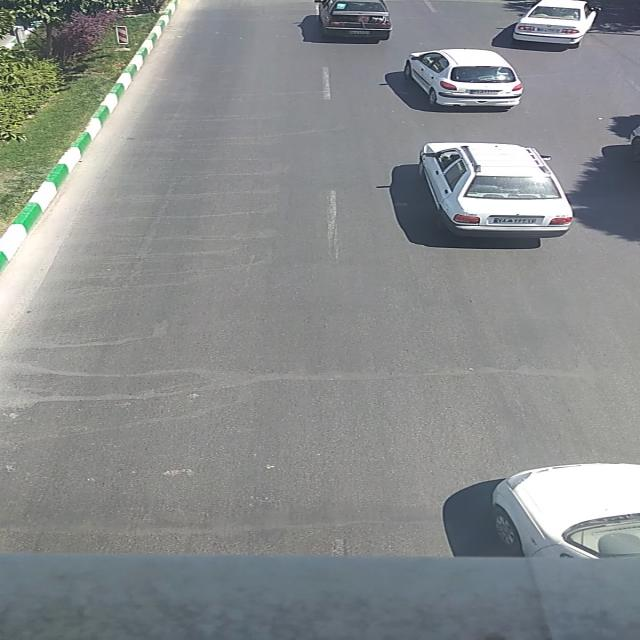car: (418, 141, 573, 239), (483, 463, 640, 558), (406, 48, 524, 110), (511, 2, 604, 46), (315, 1, 393, 41)
